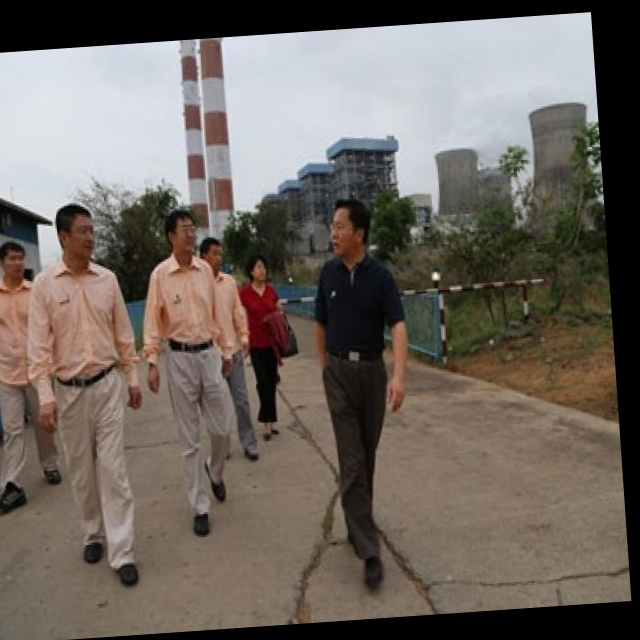Sin_Casco_Mascarrilla: (53, 202, 96, 263), (327, 195, 370, 254), (165, 209, 199, 257)
